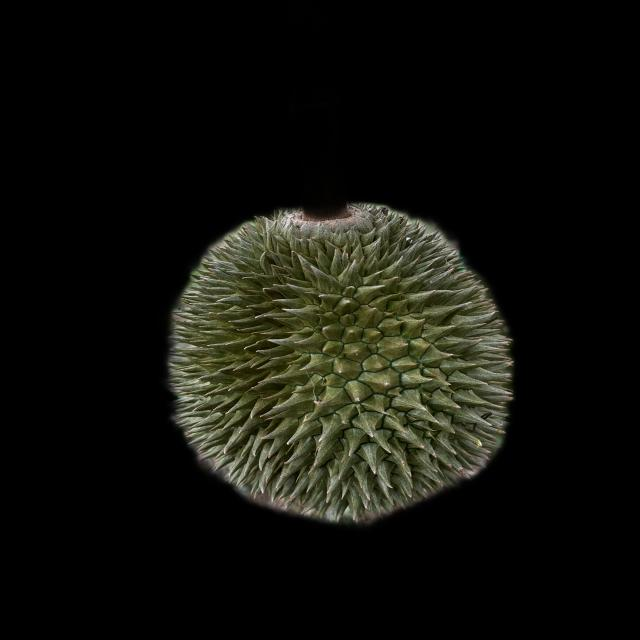immature: (162, 201, 520, 520)
